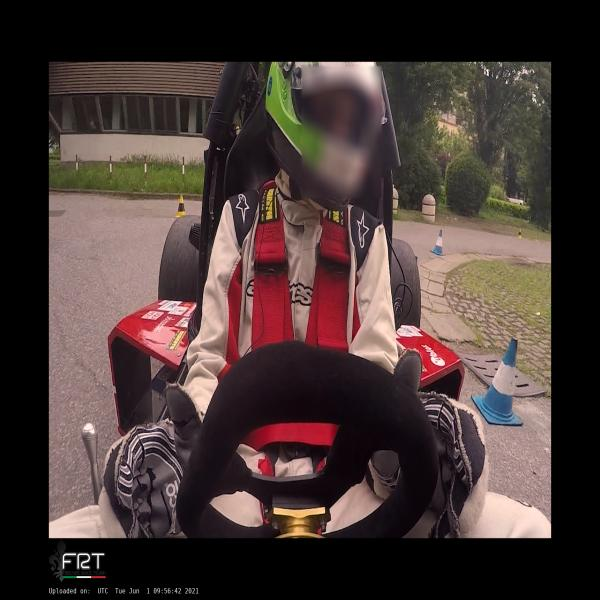blue_cone: (471, 337, 523, 425), (431, 230, 445, 255)
yellow_cone: (175, 195, 188, 217), (517, 228, 523, 239)
